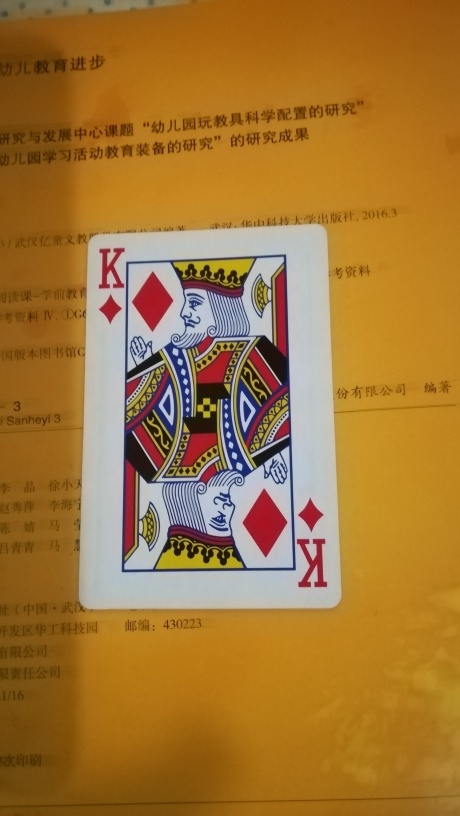fk k: (87, 225, 339, 614)
